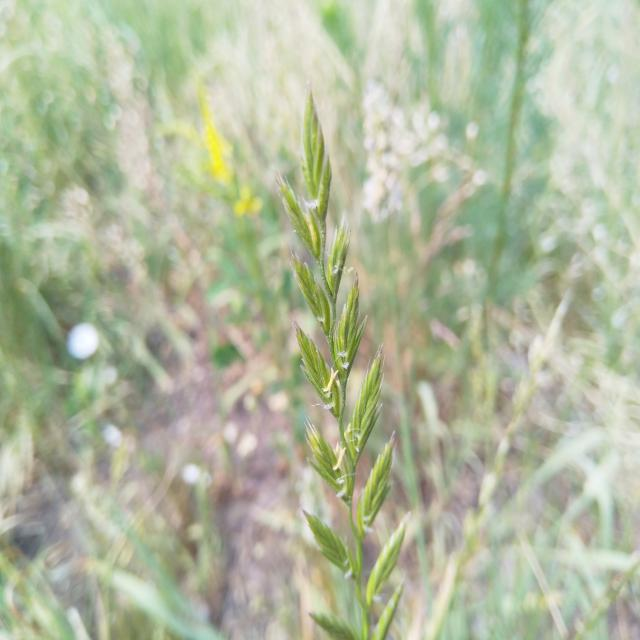Lolium: (272, 78, 412, 638)
